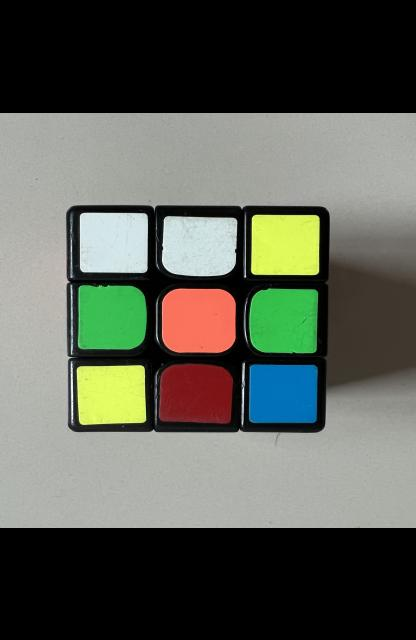Blue: (249, 363, 318, 422)
Green: (78, 284, 147, 348), (249, 288, 318, 352)
Orange: (162, 288, 236, 352)
Red: (159, 362, 233, 423)
White: (162, 215, 237, 276), (79, 212, 148, 272)
Yellow: (77, 364, 147, 424), (250, 214, 319, 274)
